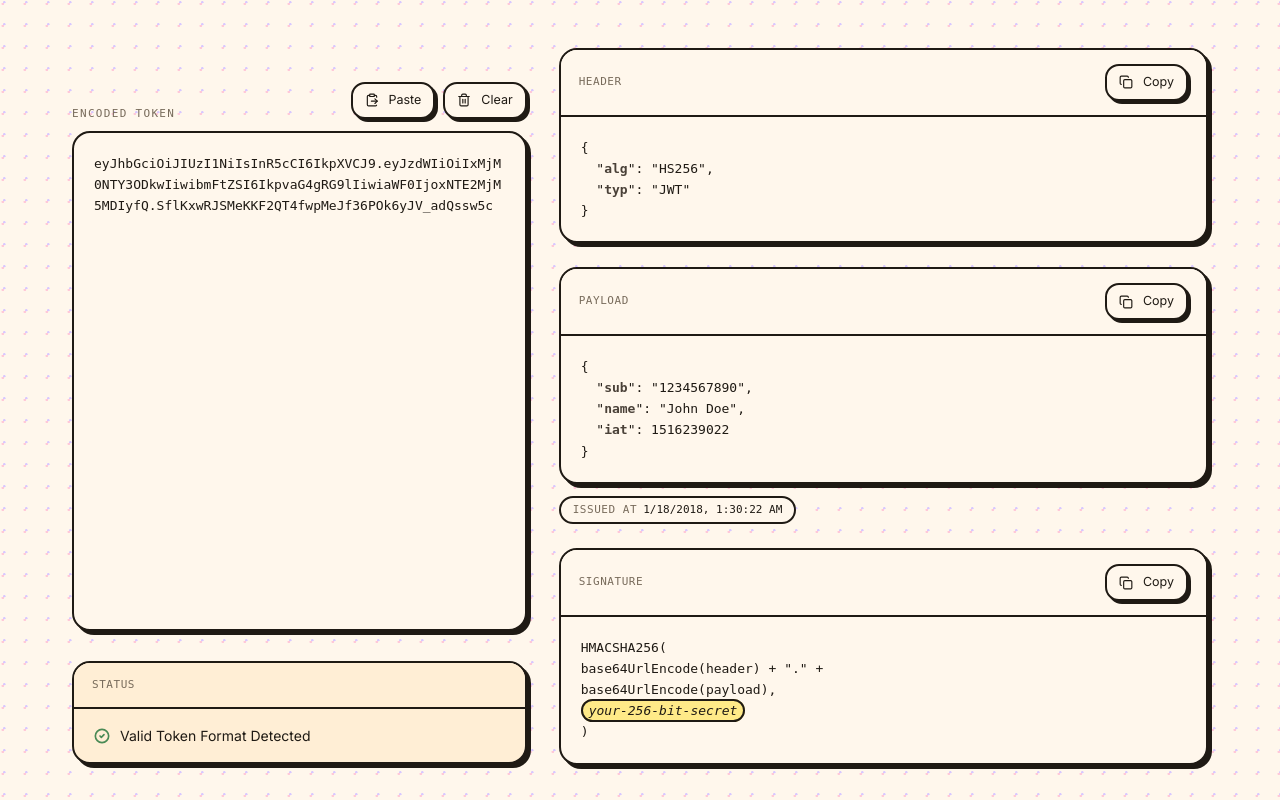
it: JwtDecoderRoute › clear button resets all state
This screenshot has width=1280, height=800.
Expected: the text "Valid Token Format Detected" is shown, [94,728,310,744]
Click the button "Clear".
click(485, 101)  # box [443,82,527,119]
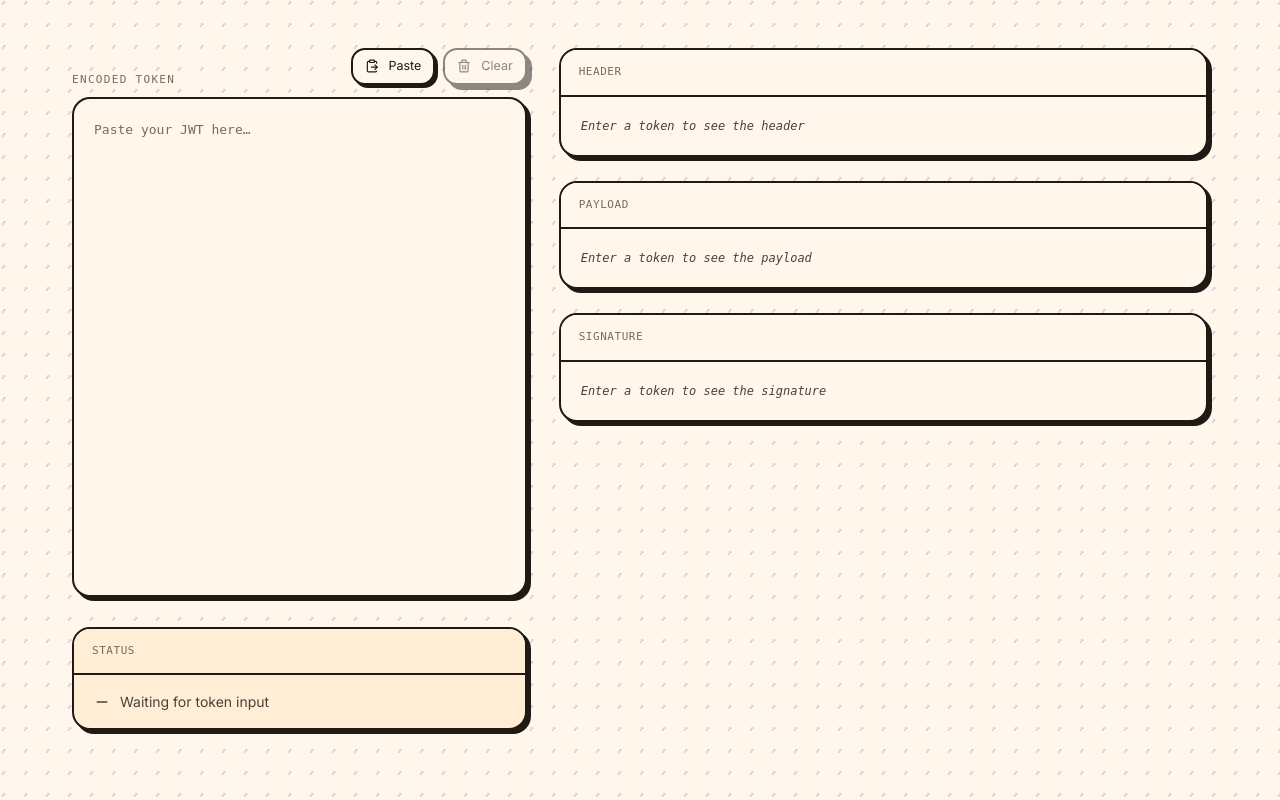
Now the text box with placeholder "Paste your JWT here…" is empty, box [72,97,527,597]
Now the text "Waiting for token input" is shown, box [94,693,269,710]
Now the text "Enter a token to see the header" is shown, box [581,118,805,132]
